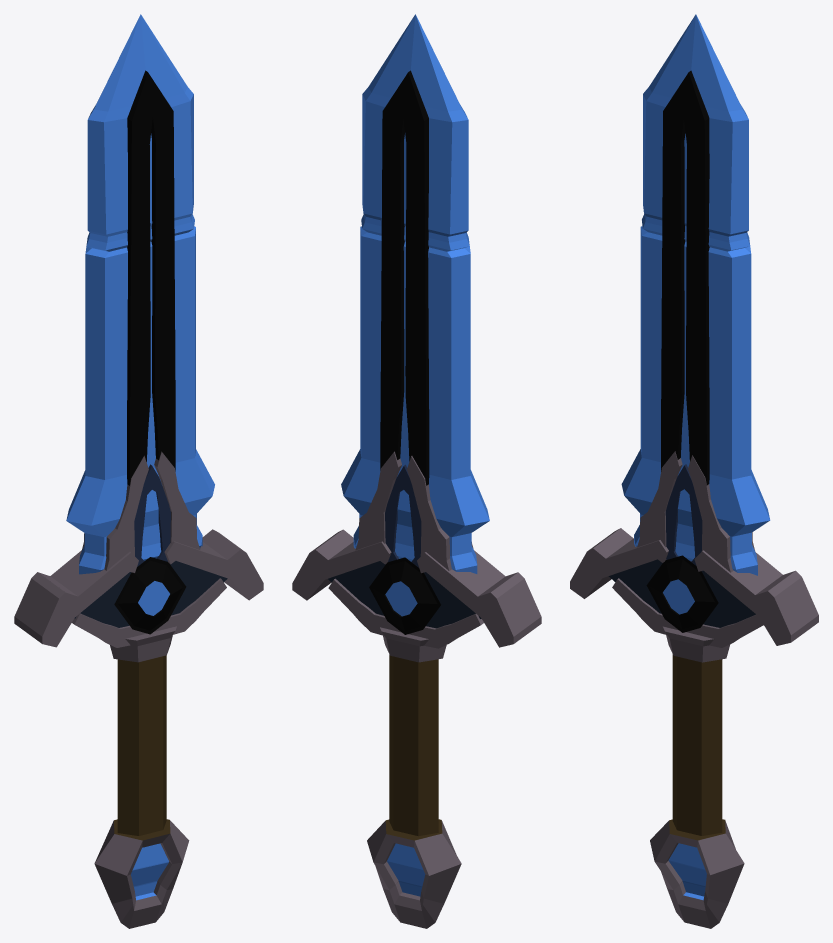
File: Arma_1.glb
3 views of the same model, side by side, from view 1: azimuth 30°, elevation 25°; view 2: azimuth 150°, elevation 25°; view 3: azimuth 330°, elevation 25° (orthographic).
Visible parts, largest first — view 1: Cubo.001; view 2: Cubo.001; view 3: Cubo.001.
Part boxes in pixels (x1,y1,x2,y2): Cubo.001: (14,14,263,928); Cubo.001: (292,14,541,928); Cubo.001: (570,14,818,928).
Size of the model in its own units: 0.5273 by 2.08 by 0.133.
